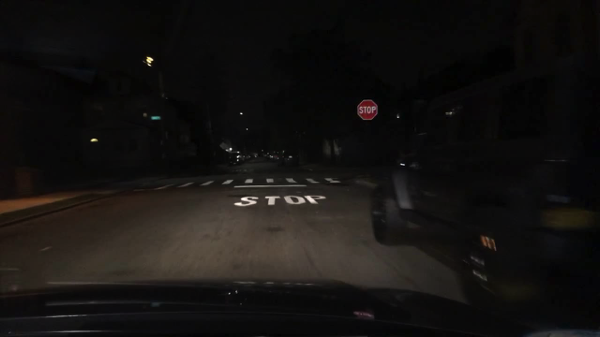car: (371, 61, 599, 317), (279, 150, 299, 166), (228, 152, 242, 168), (272, 154, 279, 161), (242, 154, 247, 162), (268, 154, 273, 159), (247, 154, 251, 160), (263, 153, 268, 157), (253, 154, 258, 157)
traffic sign: (357, 98, 376, 120), (152, 117, 162, 120)
